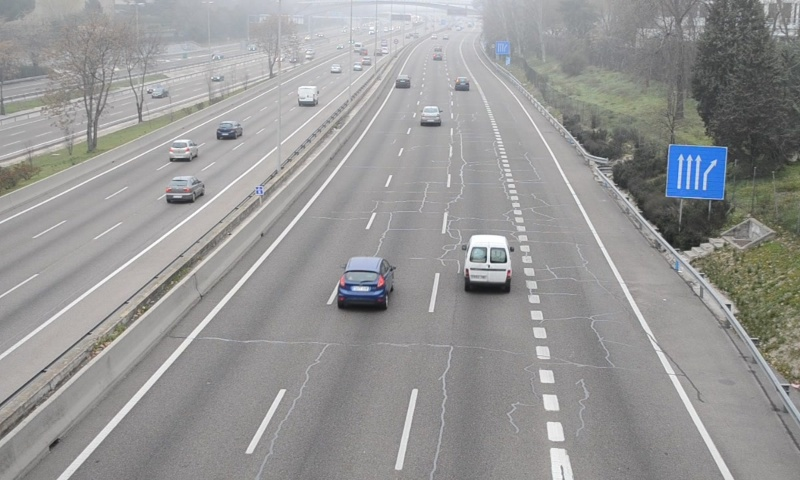car: (338, 256, 392, 307), (420, 105, 441, 126), (394, 73, 411, 89), (454, 76, 468, 91)
van: (465, 235, 510, 292)
